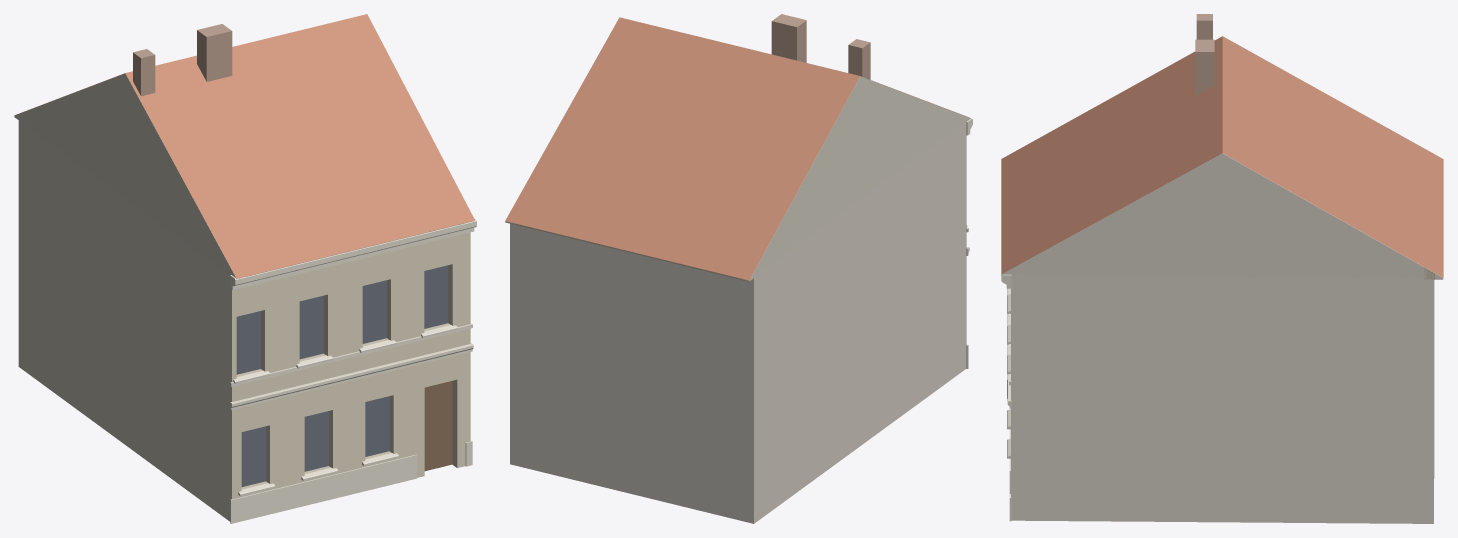
The picture shows the model from 3 angles, left to right: view 1: azimuth 30°, elevation 25°; view 2: azimuth 150°, elevation 25°; view 3: azimuth 270°, elevation 25°; orthographic projection.
Visible parts, largest first — view 1: CP_626_Masonry, CP_626_Roof, CP_626_Gable_L_gable, CP_626_Cornice_plinth_0, CP_626_Cornice_main_0, CP_626_Cornice_string_0, CP_626_Chimney_1, CP_626_Chimney_0, CP_626_Cornice_band_0; view 2: CP_626_Masonry, CP_626_Roof, CP_626_Gable_L_gable, CP_626_Chimney_1, CP_626_Chimney_0; view 3: CP_626_Masonry, CP_626_Roof, CP_626_Gable_R_gable, CP_626_Chimney_1.
Part boxes in pixels (x1,y1,x2,y2): CP_626_Masonry: (18,119,470,521); CP_626_Roof: (16,14,474,278); CP_626_Gable_L_gable: (14,73,244,278); CP_626_Cornice_plinth_0: (230,454,416,523); CP_626_Cornice_main_0: (230,218,476,290); CP_626_Cornice_string_0: (230,343,473,410); CP_626_Chimney_1: (197,24,232,81); CP_626_Chimney_0: (133,49,155,96); CP_626_Cornice_band_0: (230,323,472,386); CP_626_Masonry: (510,122,966,523); CP_626_Roof: (505,17,969,280); CP_626_Gable_L_gable: (741,76,970,281); CP_626_Chimney_1: (771,14,806,62); CP_626_Chimney_0: (848,39,870,79); CP_626_Masonry: (1011,274,1434,523); CP_626_Roof: (1001,36,1443,277); CP_626_Gable_R_gable: (1001,153,1443,278); CP_626_Chimney_1: (1195,39,1214,95).
Size of the model in its own units: 8.76 by 13.6 by 13.69.
